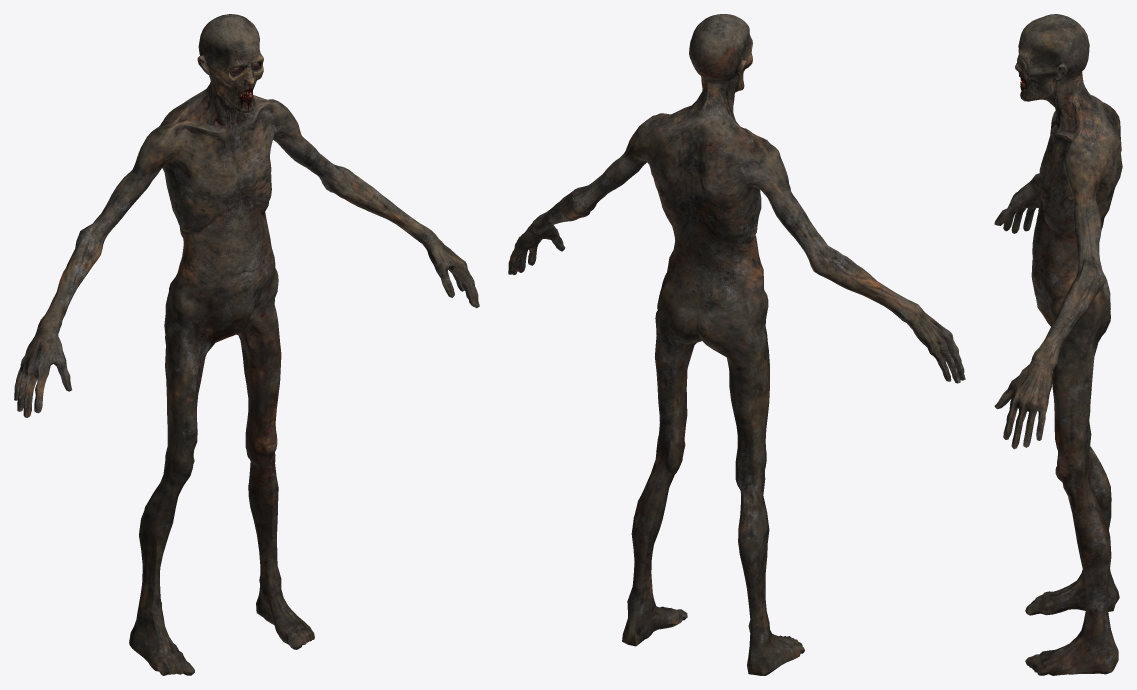
The model's file is zombie_smoke_mummy_character_12_mb.glb.
The picture shows the model from 3 angles, left to right: view 1: azimuth 30°, elevation 25°; view 2: azimuth 150°, elevation 25°; view 3: azimuth 270°, elevation 25°; orthographic projection.
Parts seen in each view (by area): view 1: object_0_object_0_0; view 2: object_0_object_0_0; view 3: object_0_object_0_0.
Part boxes in pixels (x1=…): object_0_object_0_0: x1=14, y1=14, x2=479, y2=675; object_0_object_0_0: x1=508, y1=14, x2=965, y2=675; object_0_object_0_0: x1=994, y1=14, x2=1122, y2=675.
Bounding box in the file's own units: 1.34 × 1.79 × 0.3331.
Materials: 1 (1 with a texture image).
